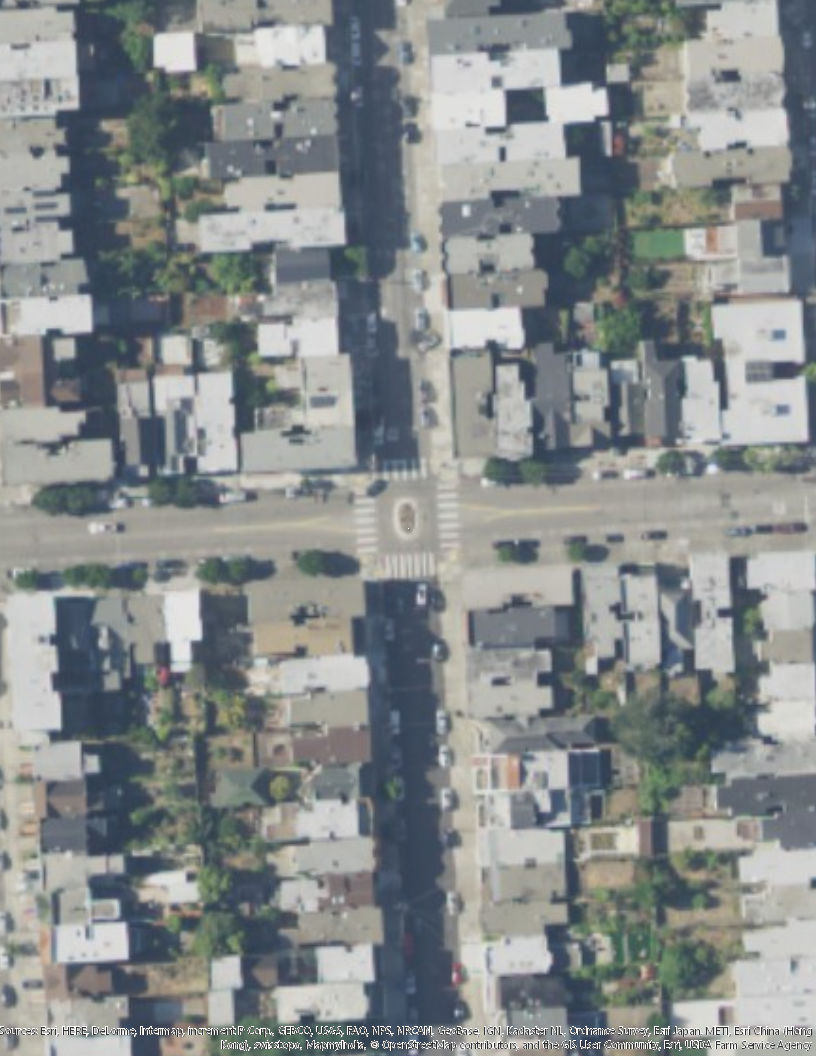zebracross: (434, 479, 462, 551), (374, 551, 439, 581), (352, 482, 377, 553), (378, 455, 433, 481)
